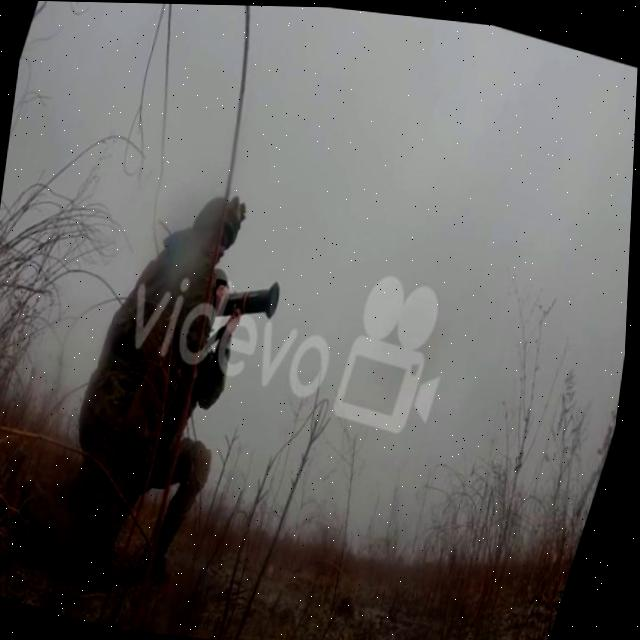rocket: (207, 266, 287, 345)
